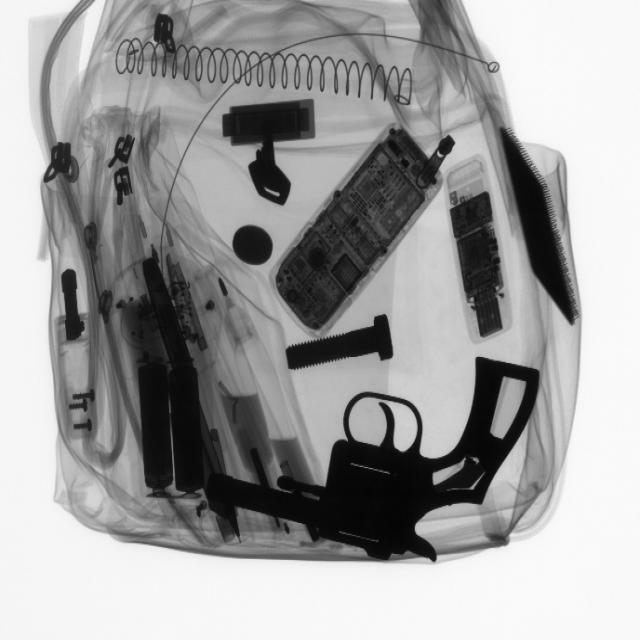GUN: (227, 350, 546, 566)
SCREW: (63, 383, 108, 449)
